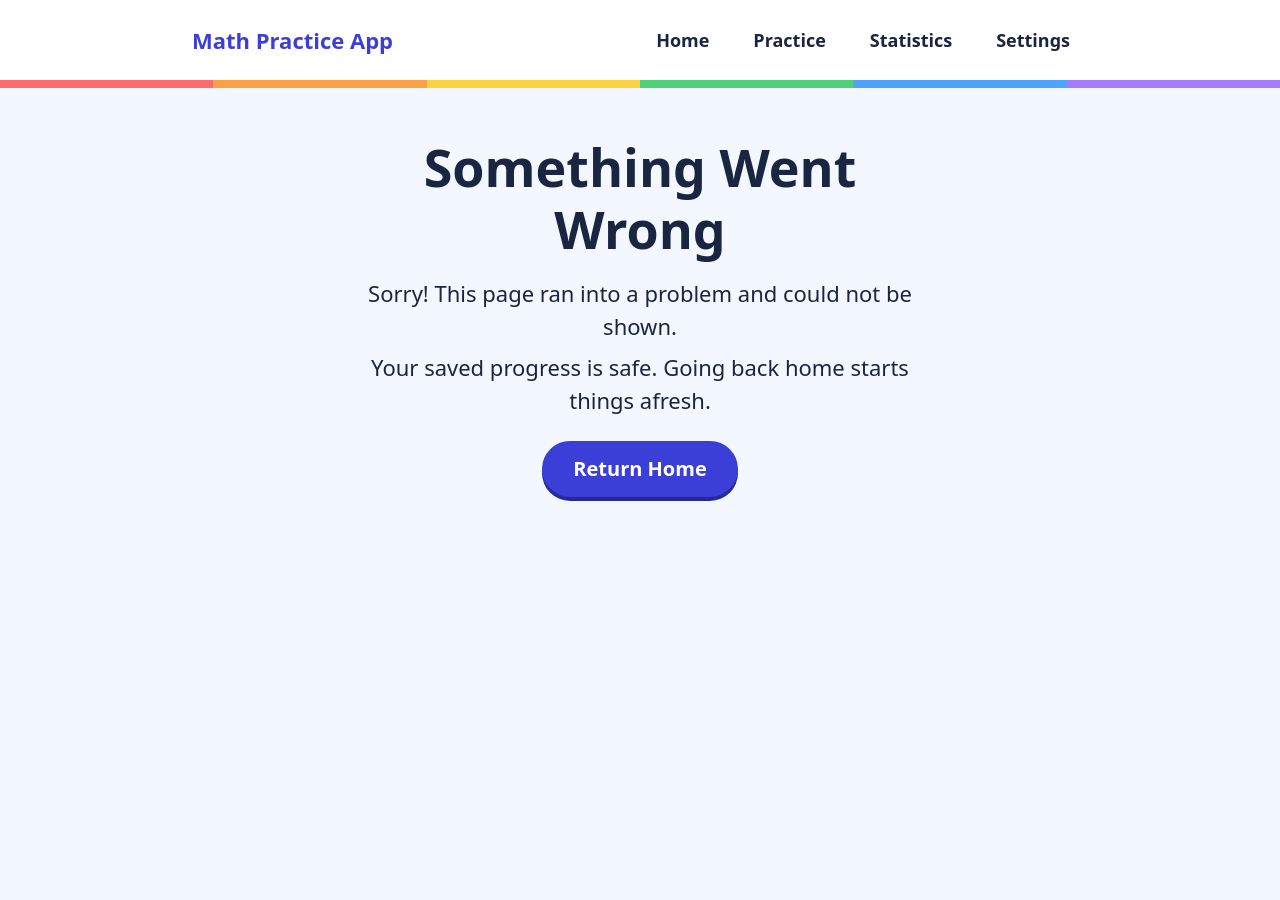
Test case: ErrorPage › lets the student go to another page, which works as usual
This screenshot has width=1280, height=900.
Click the link "Statistics".
click(911, 40)  # box x1=870 y1=28 x2=952 y2=52
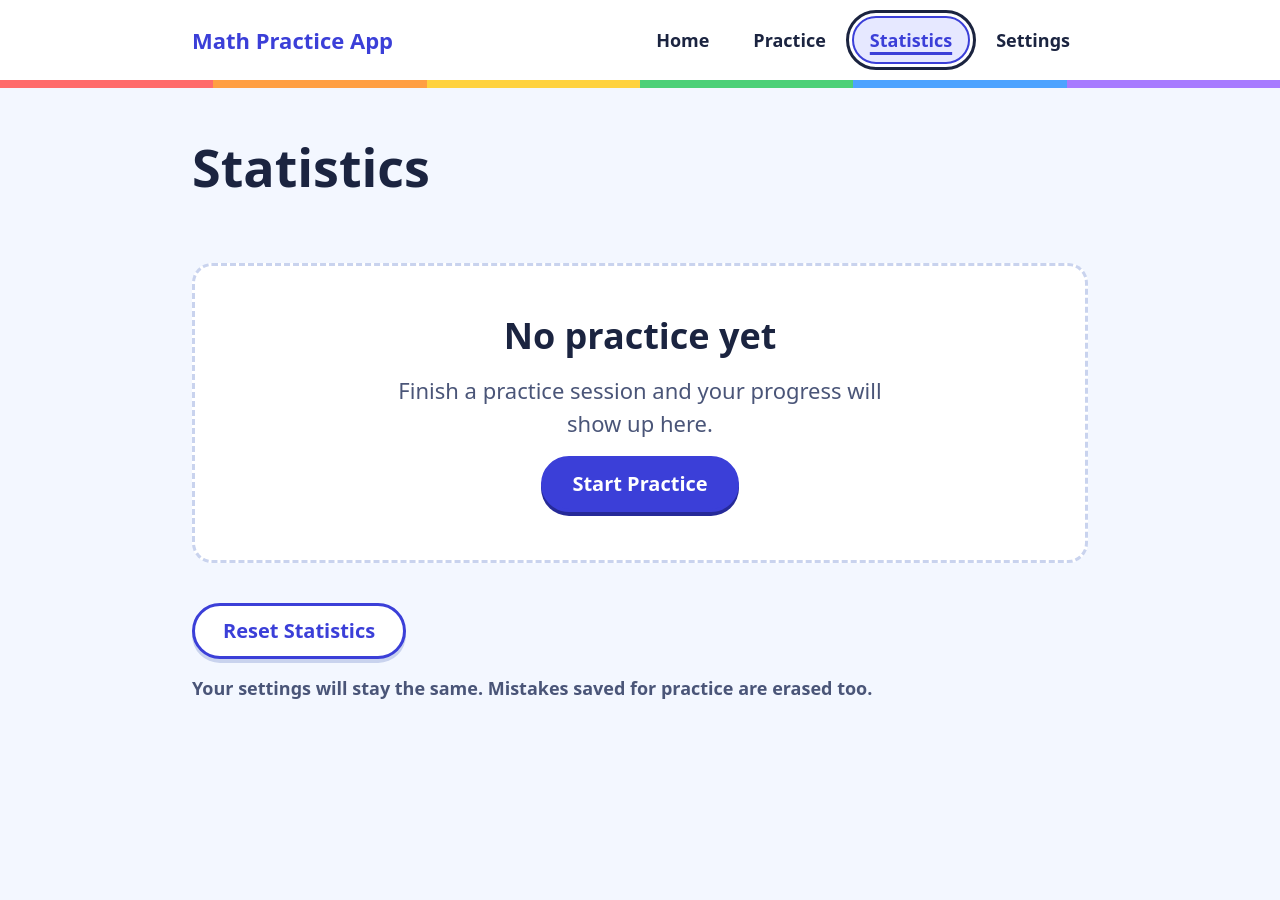
expect the heading "Statistics" is shown: met, box x1=192 y1=131 x2=430 y2=202
